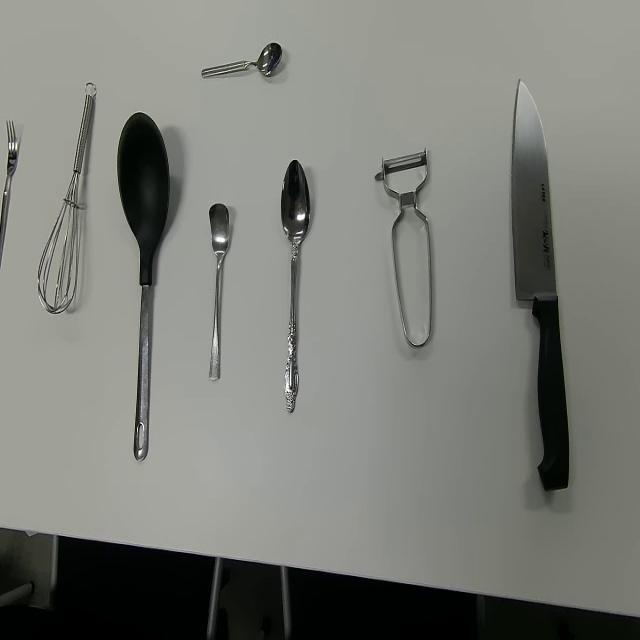Desert-Spoon: (280, 158, 312, 415)
Dinner-Fork: (0, 119, 19, 274)
Kitchen-Knife: (510, 78, 570, 494)
Peeler: (374, 145, 432, 350)
Serving-Spoon: (116, 110, 171, 463)
Tea-Spoon: (208, 201, 229, 381), (200, 40, 282, 80)
Whisk: (36, 81, 97, 315)
